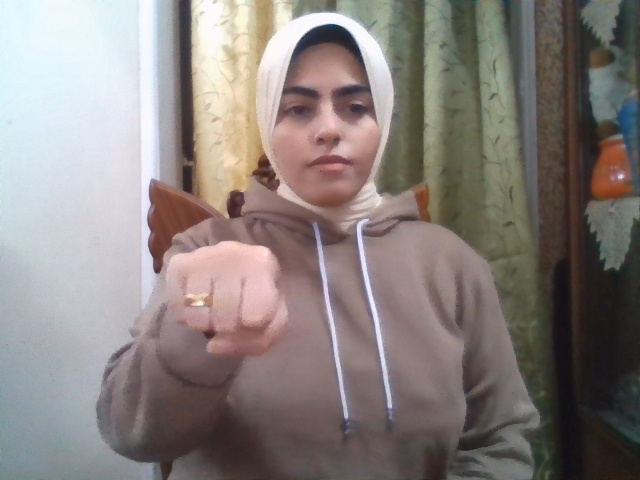yes: (166, 240, 288, 353)
